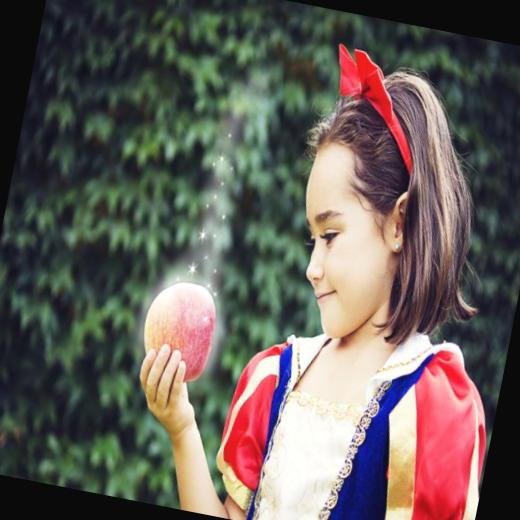Apple: (132, 272, 226, 408)
